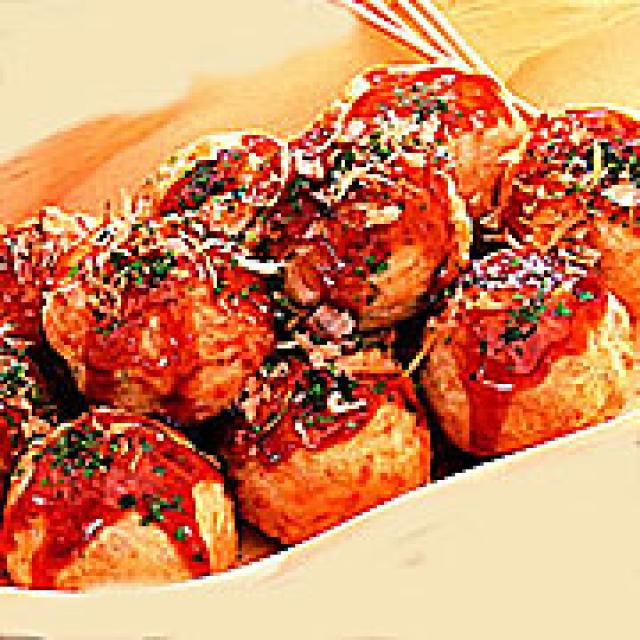炸货点心: (0, 50, 640, 597)
